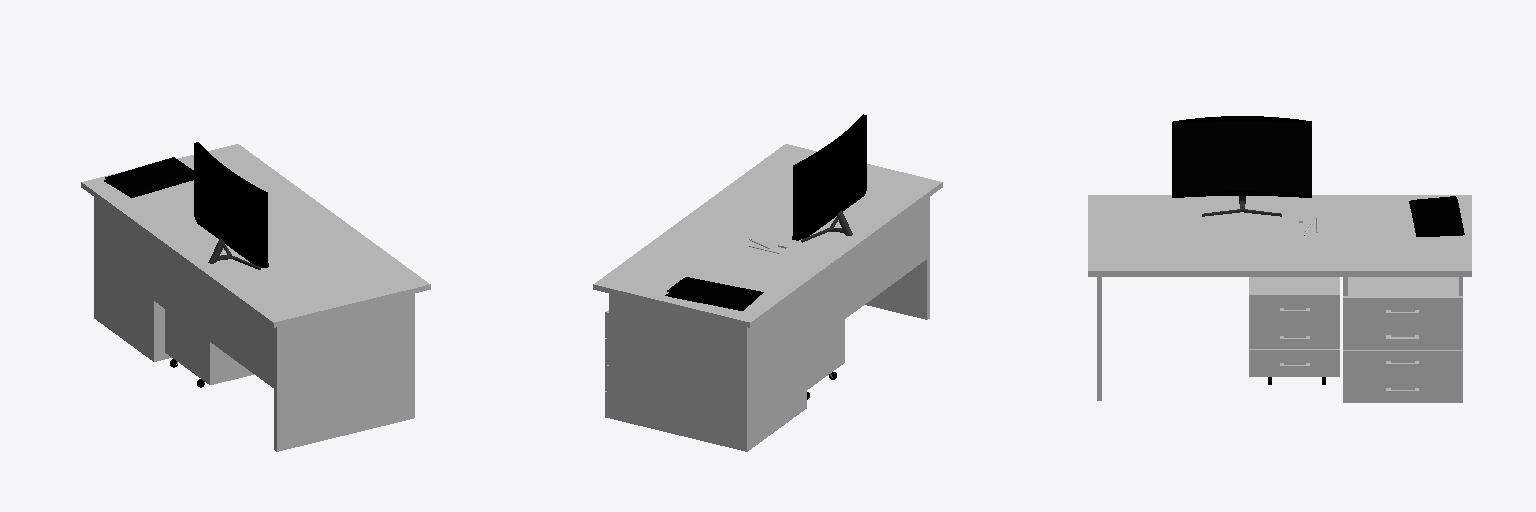
Rendered from tiny_desktop.obj.
The picture shows the model from 3 angles: view 1: azimuth 30°, elevation 25°; view 2: azimuth 150°, elevation 25°; view 3: azimuth 270°, elevation 25°; orthographic projection.
Visible parts, largest first — view 1: Cube.013_Cube.015, Monitor_27'_Curved, Cube.031_Cube.034, Куб_Куб.003; view 2: Cube.013_Cube.015, Monitor_27'_Curved, Куб_Куб.003, Cube.031_Cube.034; view 3: Cube.013_Cube.015, Monitor_27'_Curved, Cube.031_Cube.034, Куб_Куб.003.
Boxes of the visible parts, x1=… form: Cube.013_Cube.015: x1=81, y1=144, x2=430, y2=451; Monitor_27'_Curved: x1=194, y1=142, x2=268, y2=269; Cube.031_Cube.034: x1=165, y1=309, x2=254, y2=387; Куб_Куб.003: x1=104, y1=157, x2=193, y2=197; Cube.013_Cube.015: x1=593, y1=144, x2=942, y2=451; Monitor_27'_Curved: x1=792, y1=114, x2=866, y2=242; Куб_Куб.003: x1=665, y1=277, x2=763, y2=310; Cube.031_Cube.034: x1=807, y1=320, x2=844, y2=399; Cube.013_Cube.015: x1=1088, y1=195, x2=1471, y2=402; Monitor_27'_Curved: x1=1172, y1=116, x2=1311, y2=216; Cube.031_Cube.034: x1=1249, y1=277, x2=1339, y2=384; Куб_Куб.003: x1=1409, y1=196, x2=1464, y2=236.
Bounding box in the file's own units: 4.55 × 6.23 × 9.64.